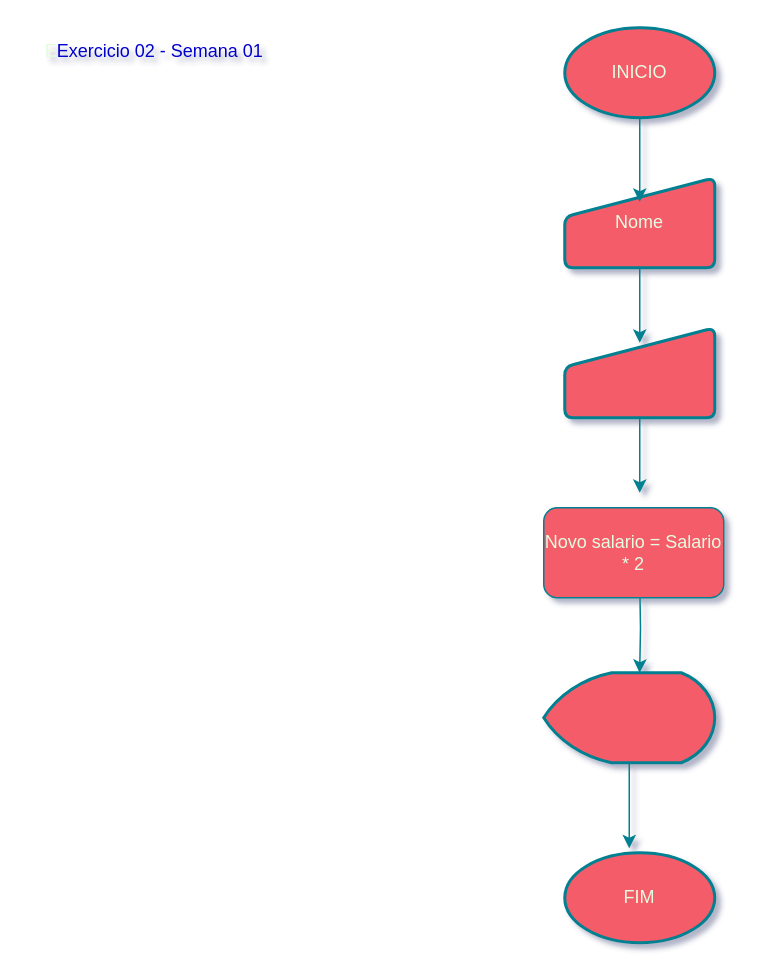
Image size: 759x978. Some labels were removed from this diagram. Each missing label, with the box of its shape:
Novo Salario: (542, 670, 716, 764)
Salario: (562, 326, 716, 418)
